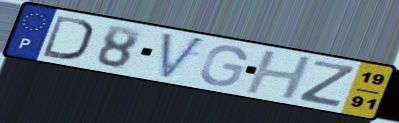8: (94, 25, 142, 69)
D: (40, 13, 96, 62)
G: (197, 44, 249, 88)
H: (242, 49, 316, 101)
V: (158, 31, 209, 82)
Z: (295, 59, 358, 109)
